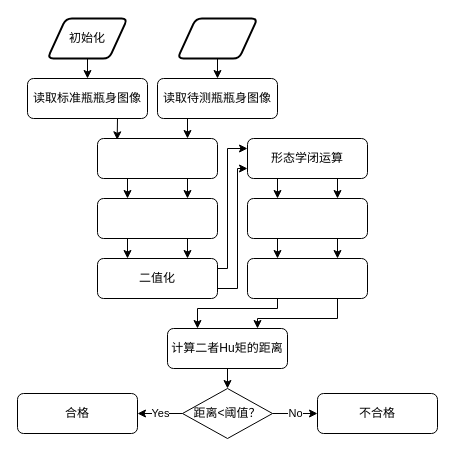
Some shapes in this 455 by 456 pixel diagram are drawn without their labels. The box of each missing label's shape, as (x1, y1, x2, y2) in pixels:
RGB图转为灰度图: (96, 138, 218, 178)
中值滤波平滑: (246, 198, 368, 238)
寻找边缘: (246, 258, 368, 298)
检测: (176, 17, 258, 59)
高斯滤波去除噪声: (96, 198, 218, 238)
